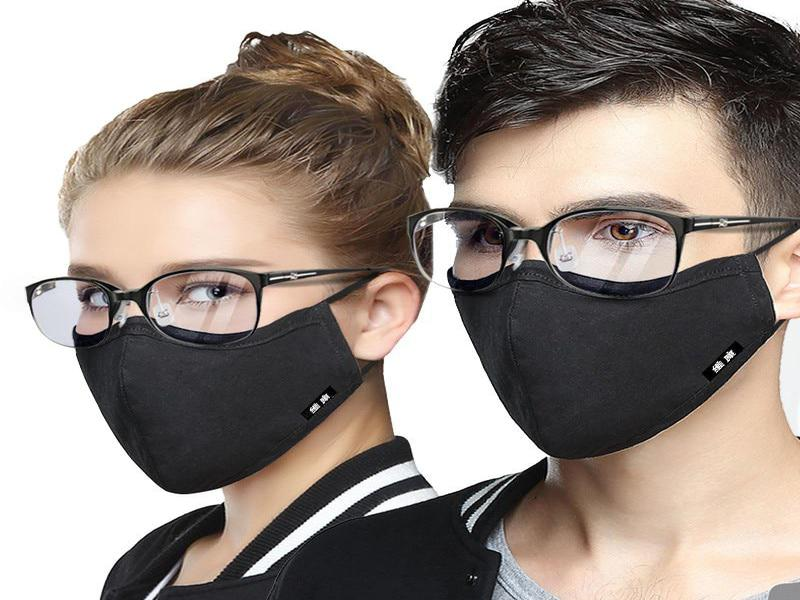with_mask: (26, 33, 438, 497), (447, 1, 800, 459)
